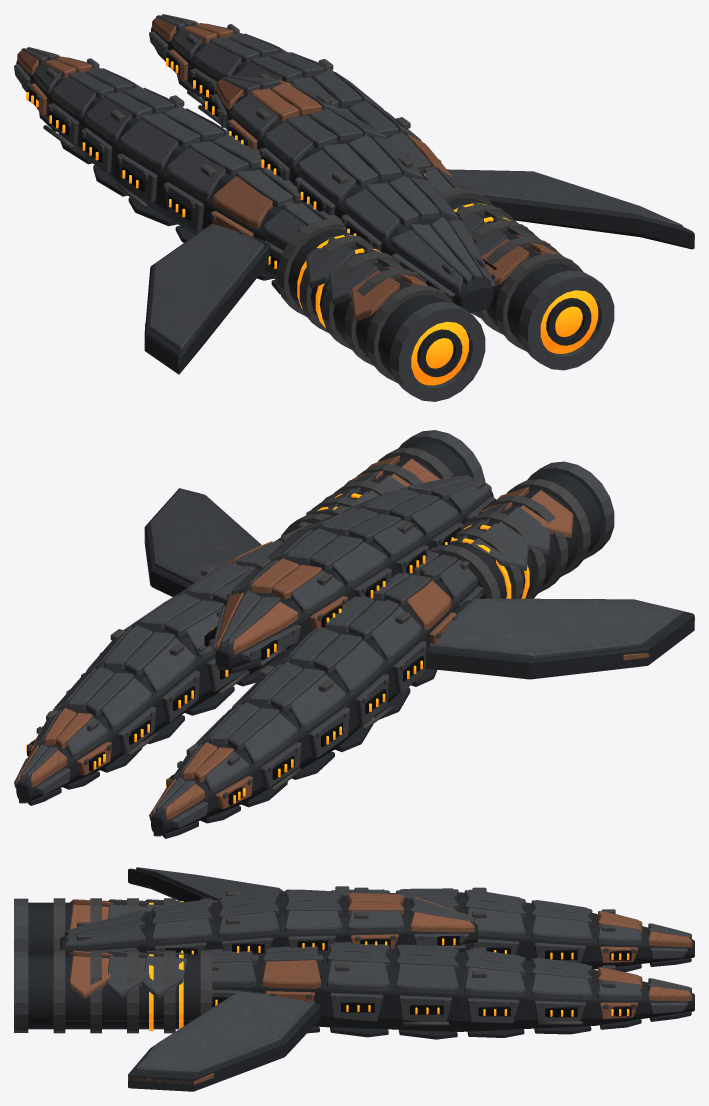
File: husk.glb
3 renders of one model, top to bottom at view 1: azimuth 30°, elevation 25°; view 2: azimuth 150°, elevation 25°; view 3: azimuth 270°, elevation 25°, orthographic. The views are drawn at different scales.
Parts seen in each view (by area): view 1: Husk.001; view 2: Husk.001; view 3: Husk.001.
Boxes of the visible parts, left/top/right/bottom form: Husk.001: left=14, top=14, right=694, bottom=401; Husk.001: left=14, top=430, right=694, bottom=838; Husk.001: left=14, top=867, right=694, bottom=1091.
Bounding box in the file's own units: 5.48 × 1.29 × 7.65.
6 materials, 6 textured.
